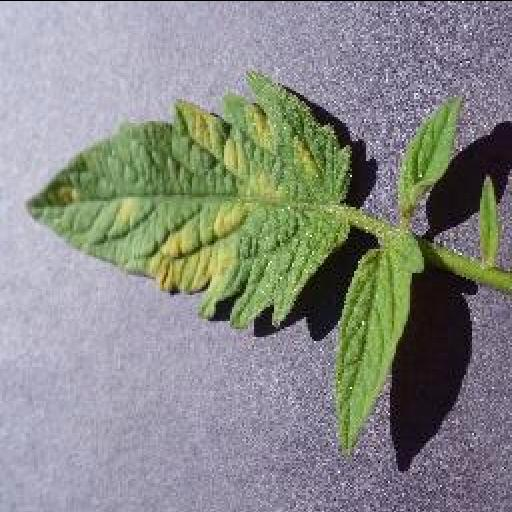disease_tomato: (20, 66, 354, 332)
